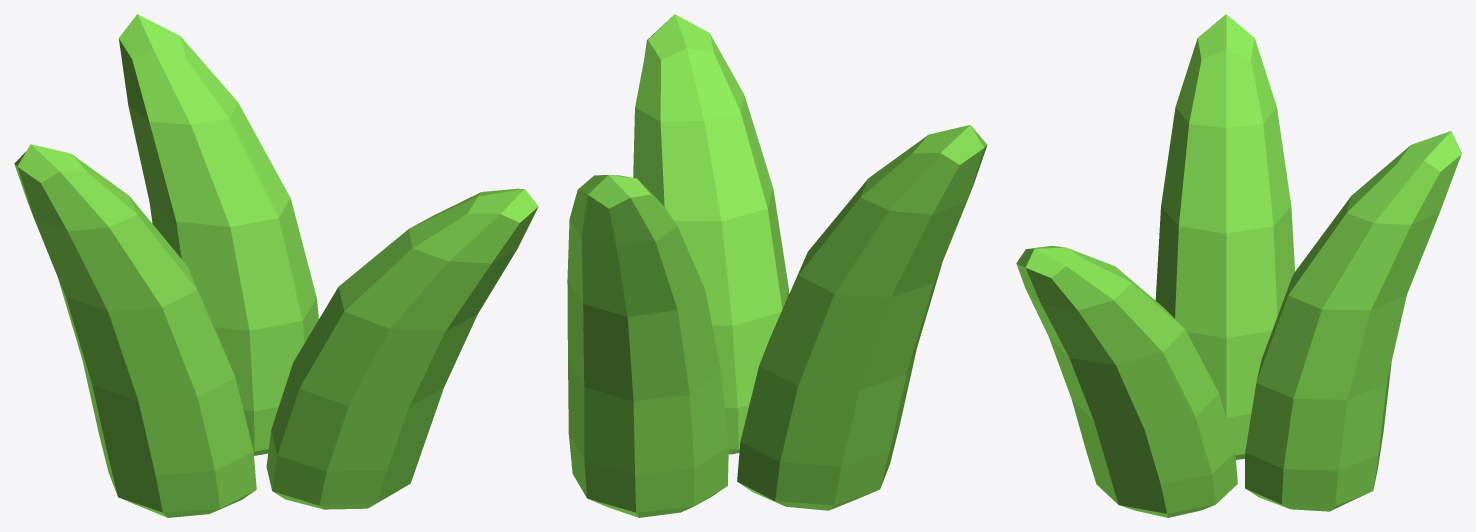
Rendered from grass4.fbx.
3 renders of one model, left to right at view 1: azimuth 30°, elevation 25°; view 2: azimuth 150°, elevation 25°; view 3: azimuth 270°, elevation 25°, orthographic. The views are drawn at different scales.
Parts seen in each view (by area): view 1: Grass4; view 2: Grass4; view 3: Grass4.
Part boxes in pixels (x1,y1,x2,y2): Grass4: (14,14,538,517); Grass4: (567,14,987,517); Grass4: (1016,14,1461,517).
Size of the model in its own units: 147 by 131 by 146.
